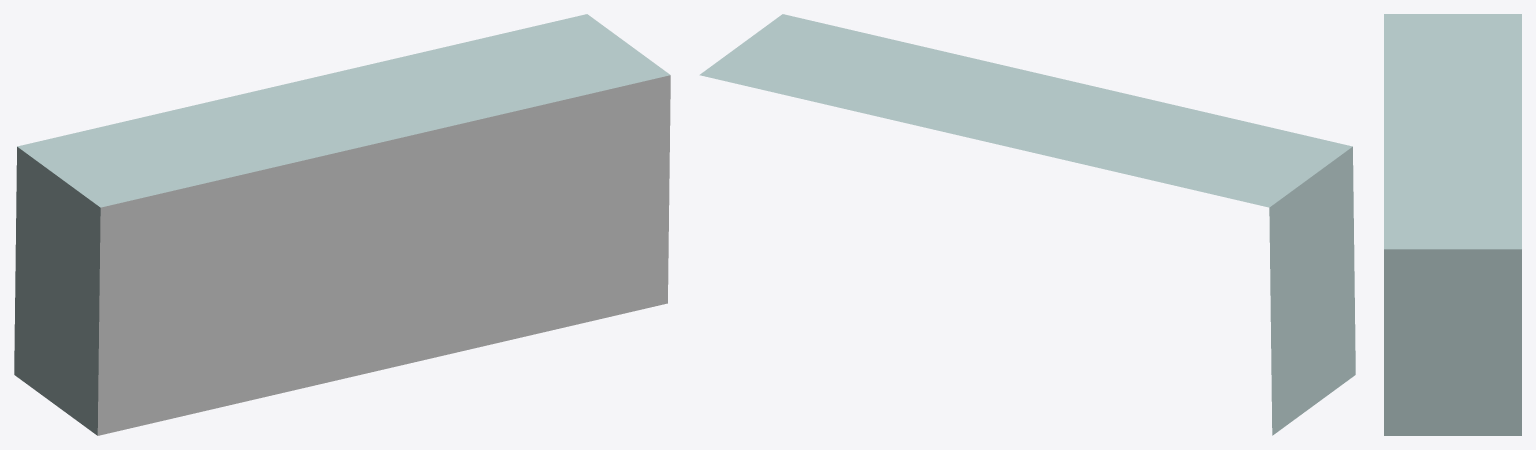
3 renders of one model, left to right at view 1: azimuth 30°, elevation 25°; view 2: azimuth 150°, elevation 25°; view 3: azimuth 270°, elevation 25°, orthographic. The views are drawn at different scales.
Visible parts, largest first — view 1: 0_2_2_3_3_3_2_3_3; view 2: 0_2_2_3_3_3_2_3_3; view 3: 0_2_2_3_3_3_2_3_3.
Part boxes in pixels (x1,y1,x2,y2): 0_2_2_3_3_3_2_3_3: (14, 14, 670, 435); 0_2_2_3_3_3_2_3_3: (699, 14, 1355, 435); 0_2_2_3_3_3_2_3_3: (1384, 14, 1521, 435).
Bounding box in the file's own units: 11.88 × 4.64 × 3.
